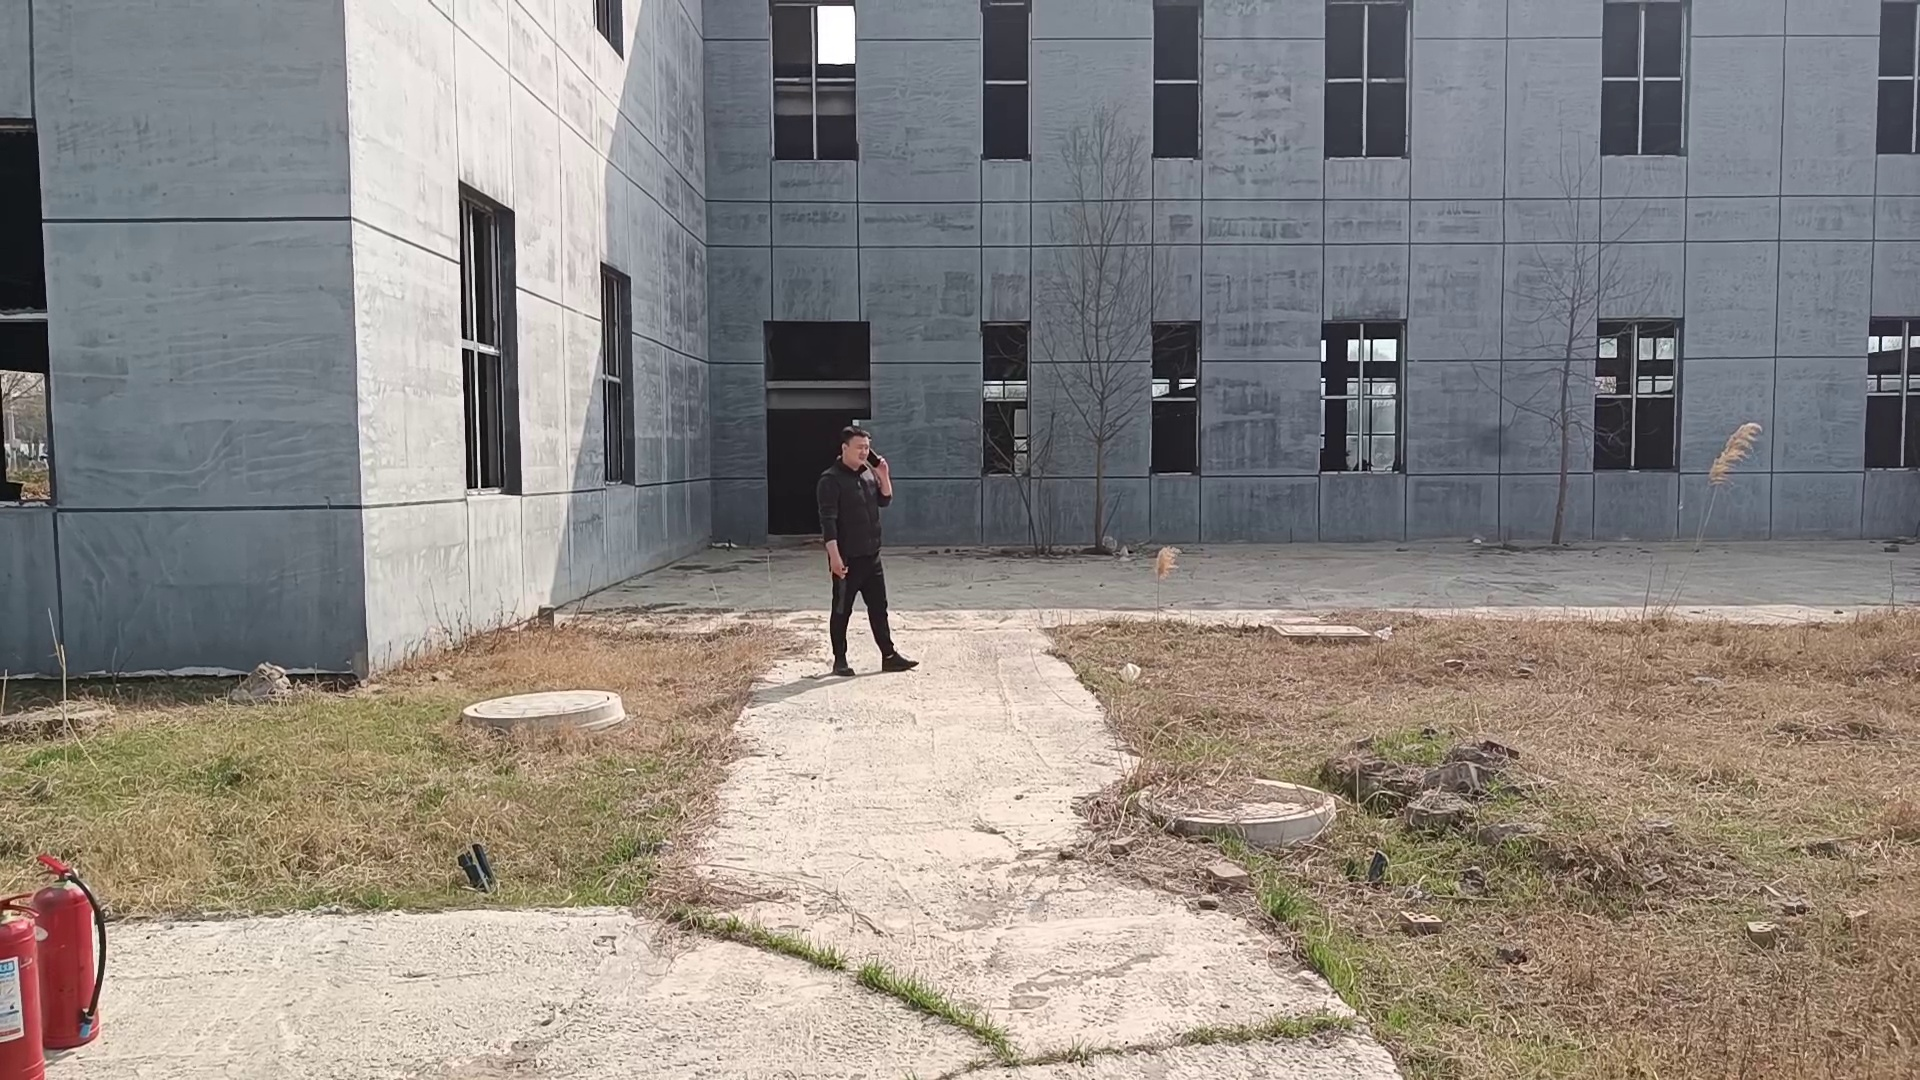phone: (827, 429, 884, 473)
